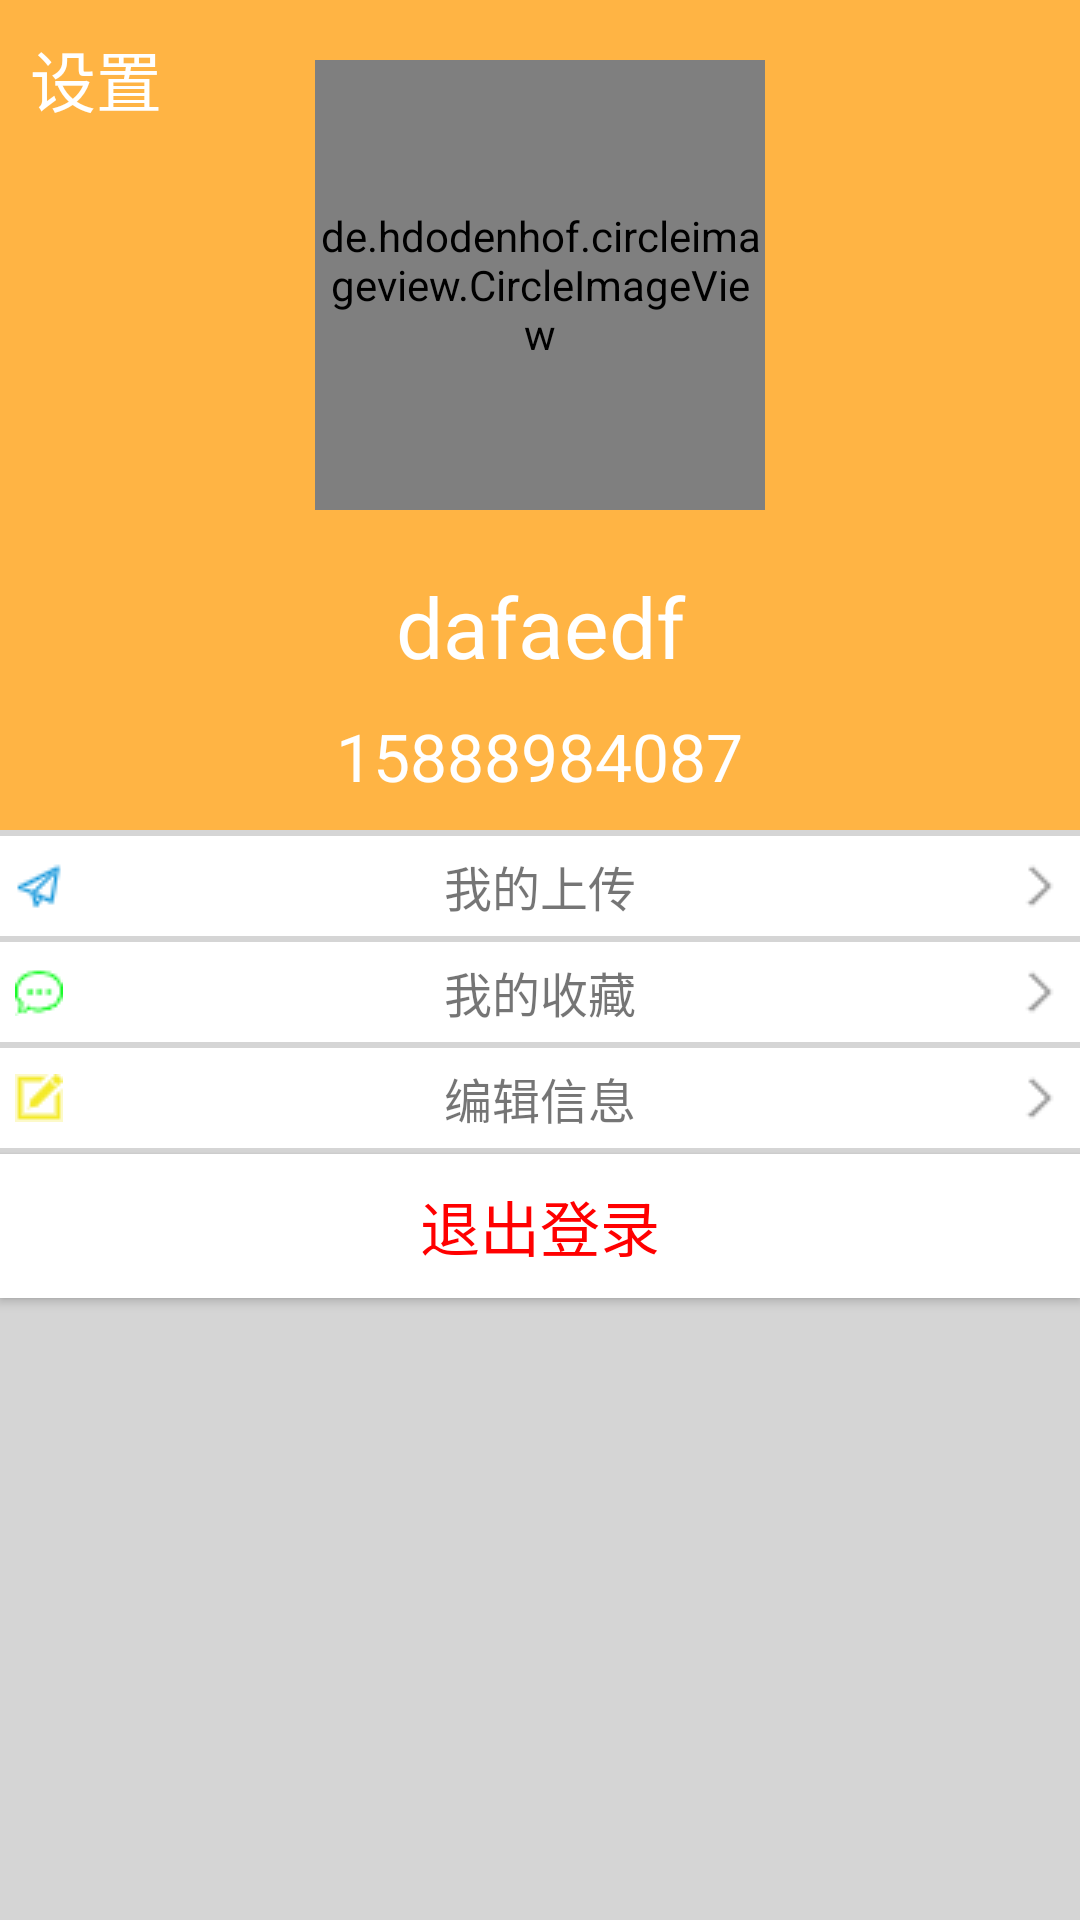

Screen size 1080px x 1920px. Icon name, then its center in pixels as [x,y]:
comment: [39,993]
edit: [39,1098]
rightarrow: [1039,886], [1039,992], [1039,1098]
send: [39,886]
